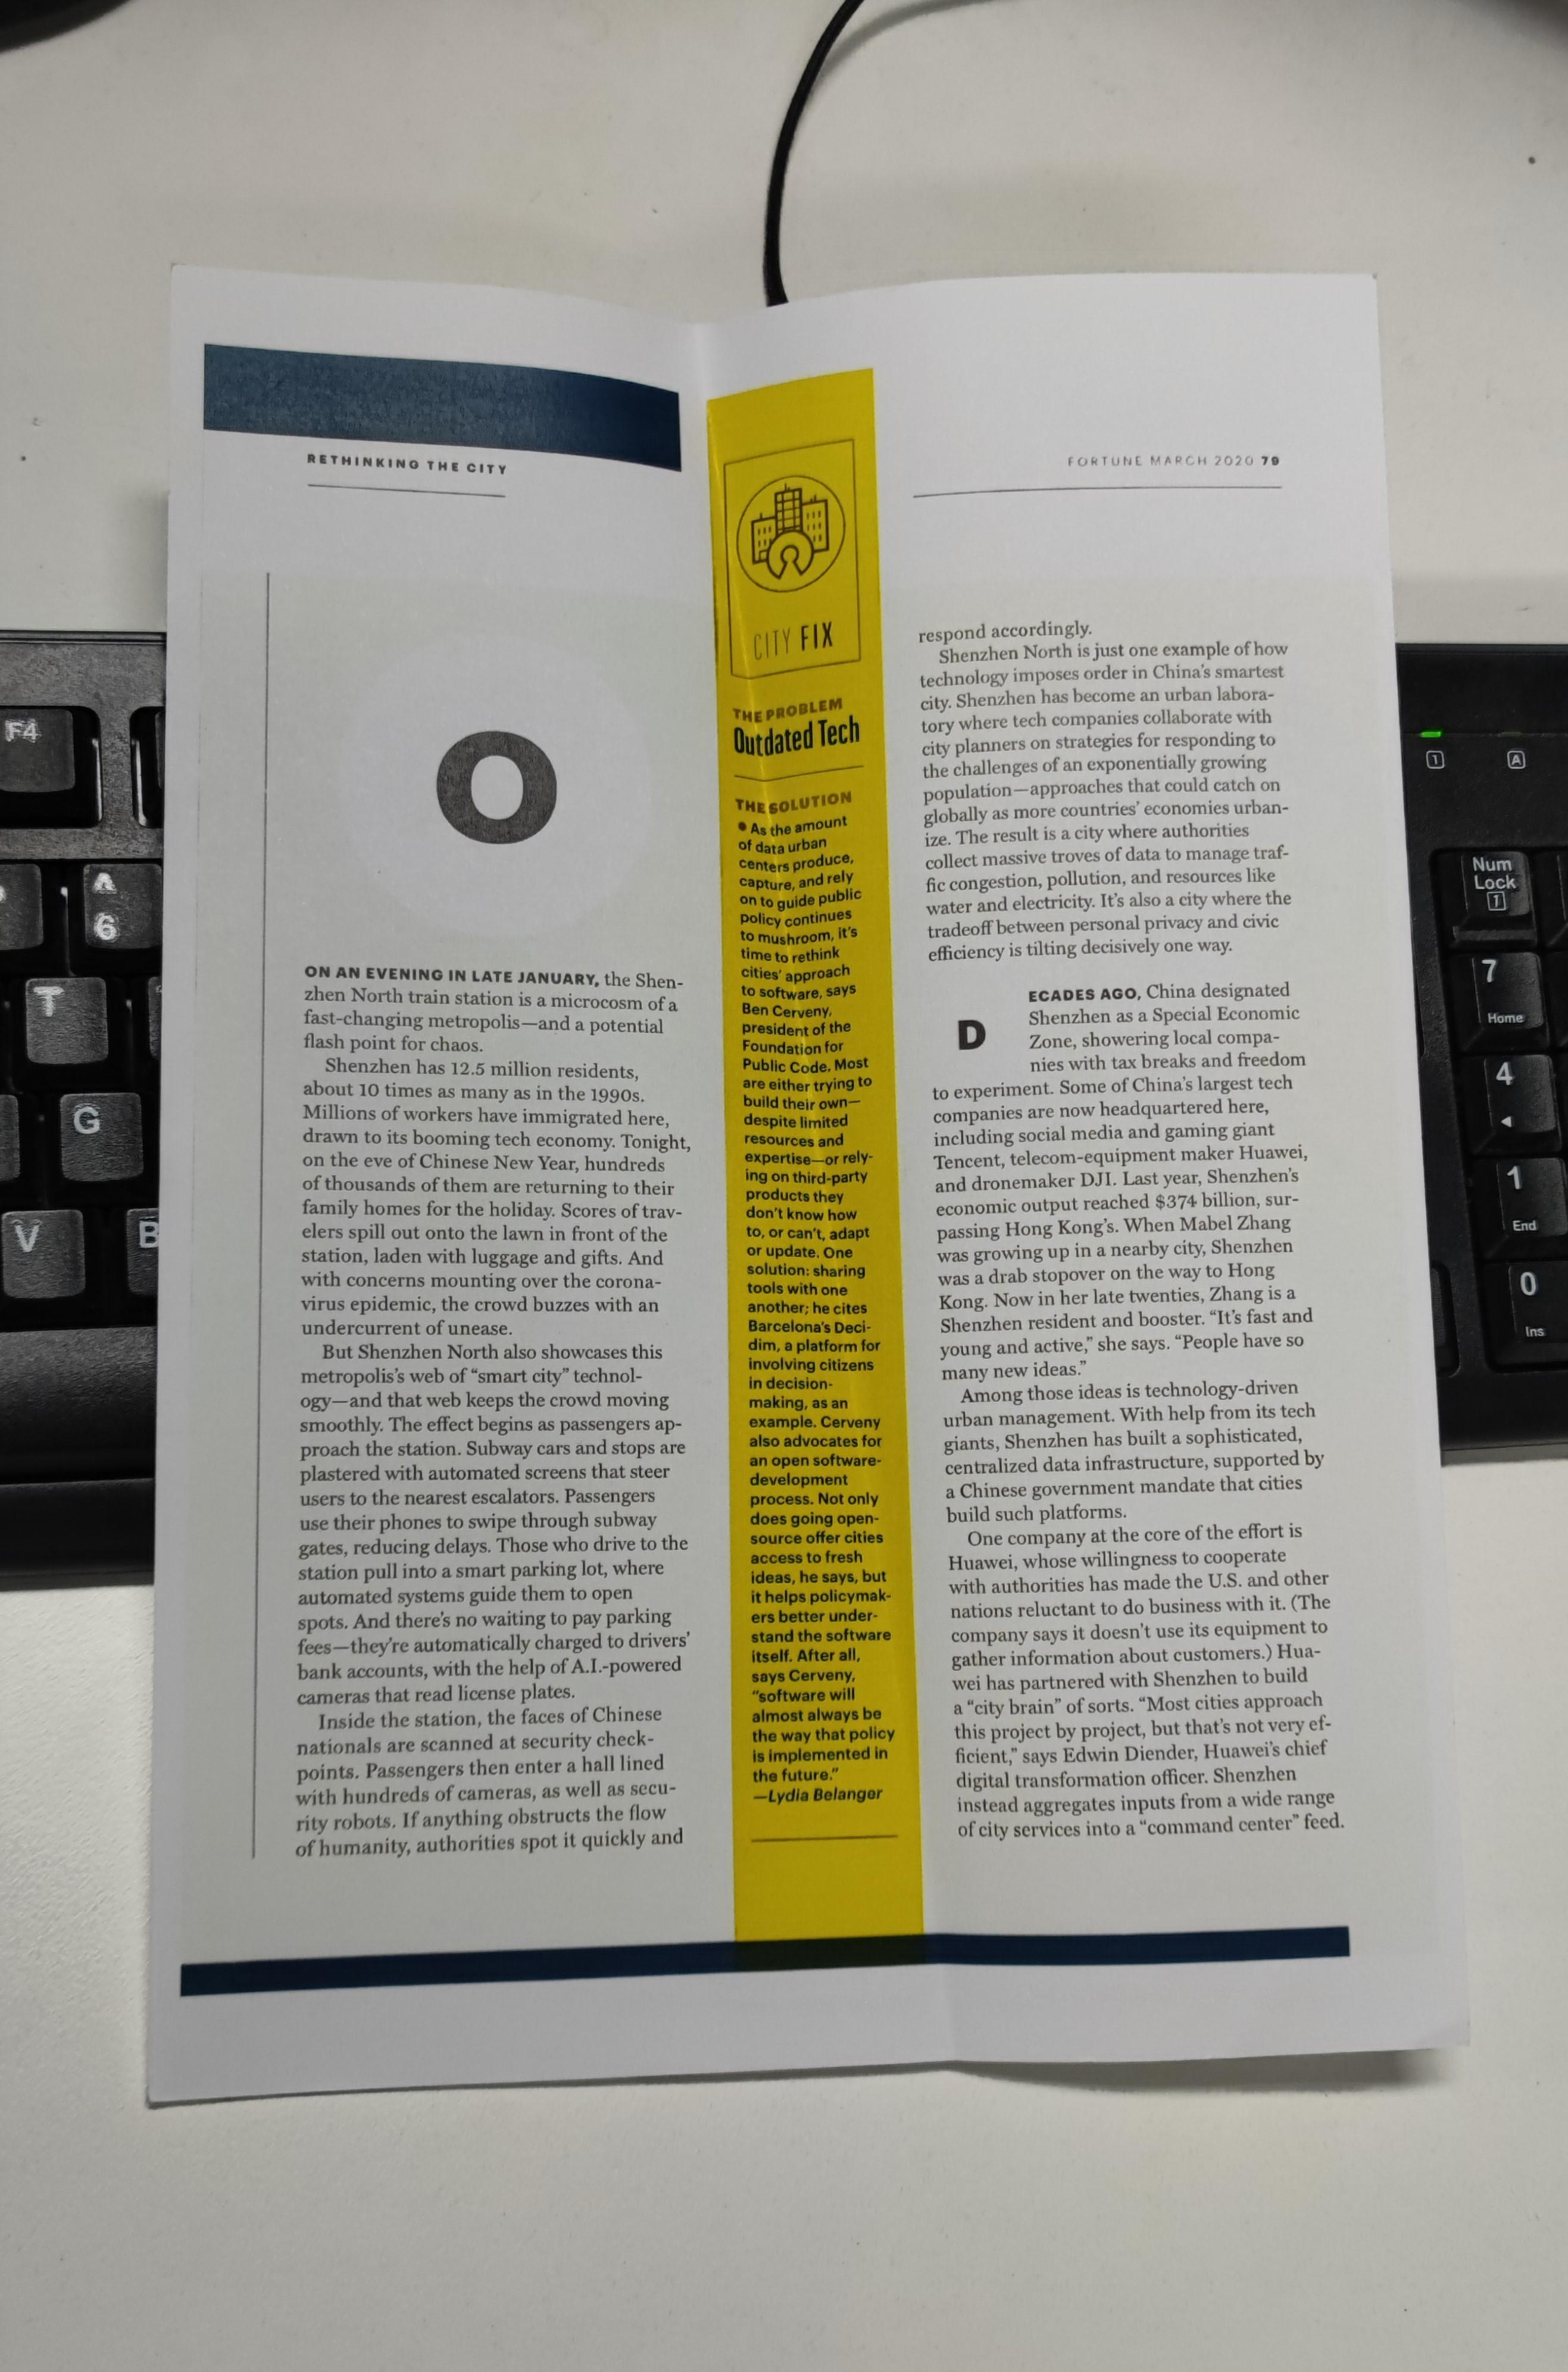paper: (72, 173, 1500, 2312)
